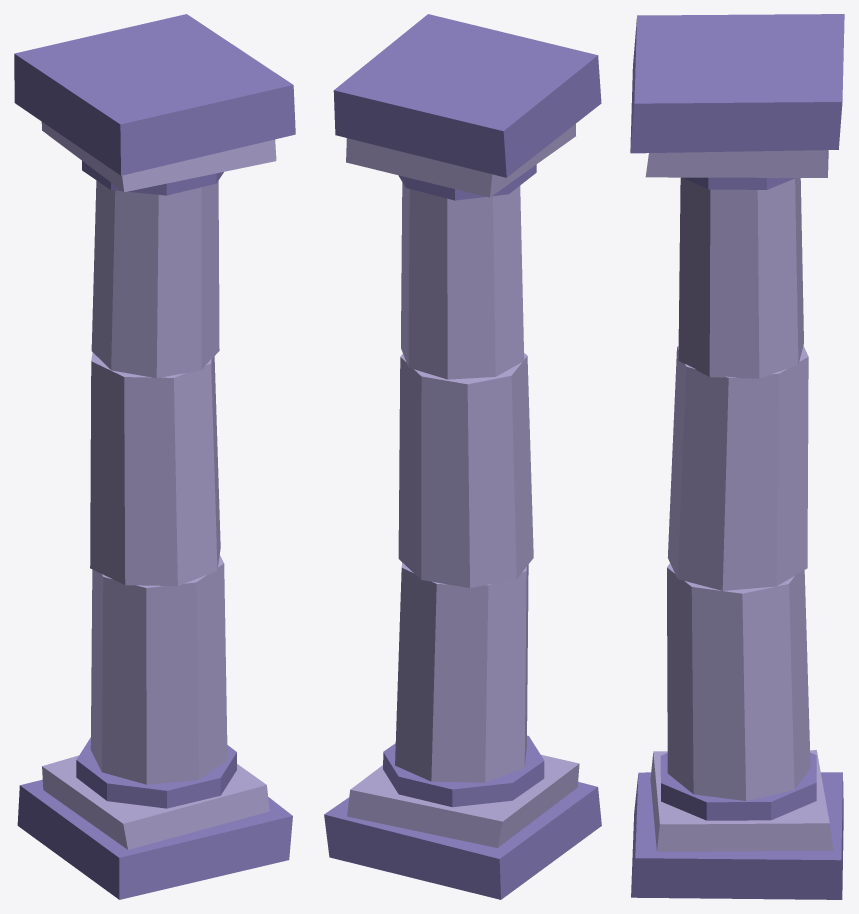
File: pillar.fbx
The picture shows the model from 3 angles, left to right: view 1: azimuth 30°, elevation 25°; view 2: azimuth 150°, elevation 25°; view 3: azimuth 270°, elevation 25°; orthographic projection. The views are drawn at different scales.
Visible parts, largest first — view 1: pillar; view 2: pillar; view 3: pillar.
Boxes of the visible parts, left/top/right/bottom form: pillar: left=14, top=14, right=295, bottom=899; pillar: left=324, top=14, right=601, bottom=899; pillar: left=630, top=14, right=844, bottom=899.
Size of the model in its own units: 0.7434 by 3 by 0.7303.
